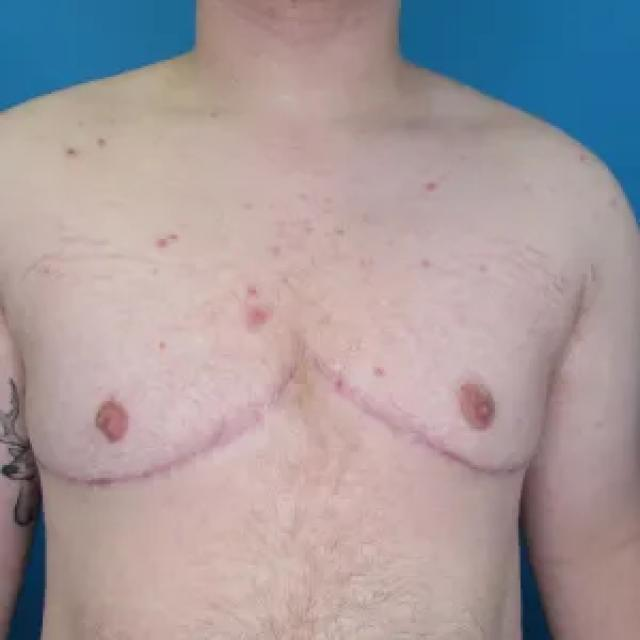Seno herido: (18, 300, 300, 500), (310, 300, 553, 490)
